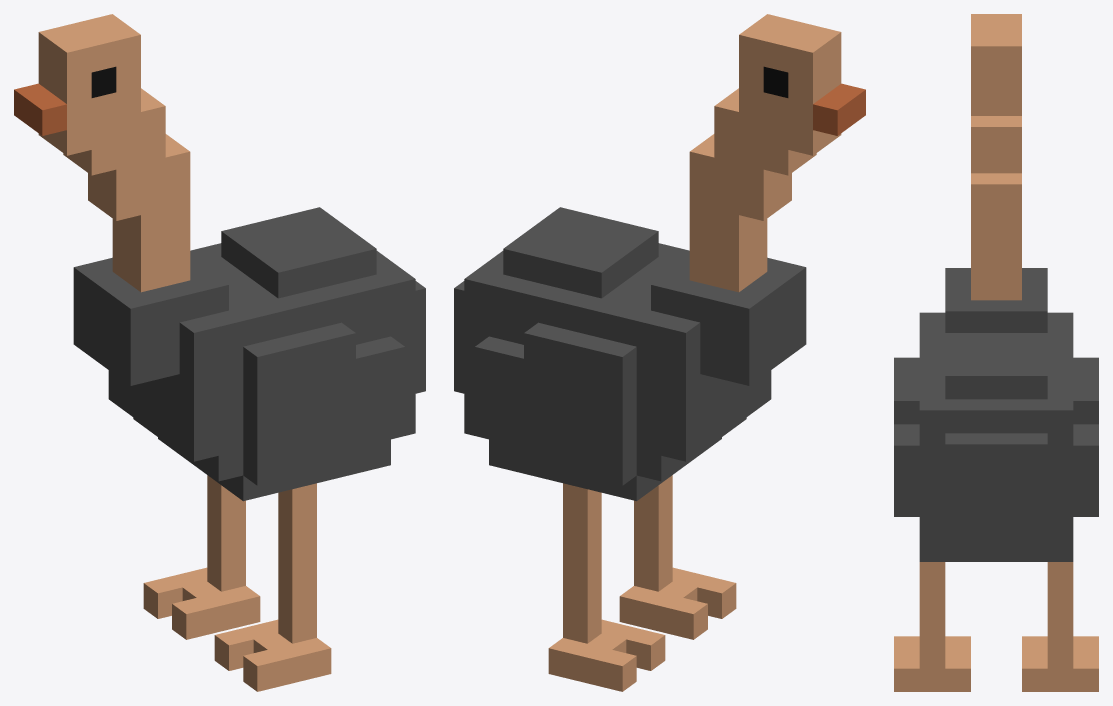
The model's file is ostrich.glb.
3 renders of one model, left to right at view 1: azimuth 30°, elevation 25°; view 2: azimuth 150°, elevation 25°; view 3: azimuth 270°, elevation 25°, orthographic. The views are drawn at different scales.
Parts seen in each view (by area): view 1: Ostrich; view 2: Ostrich; view 3: Ostrich.
Part boxes in pixels (x1=…): Ostrich: x1=14, y1=14, x2=425, y2=691; Ostrich: x1=454, y1=14, x2=865, y2=691; Ostrich: x1=894, y1=14, x2=1098, y2=691.
Size of the model in its own units: 15 by 25 by 8.
1 material, 1 textured.
